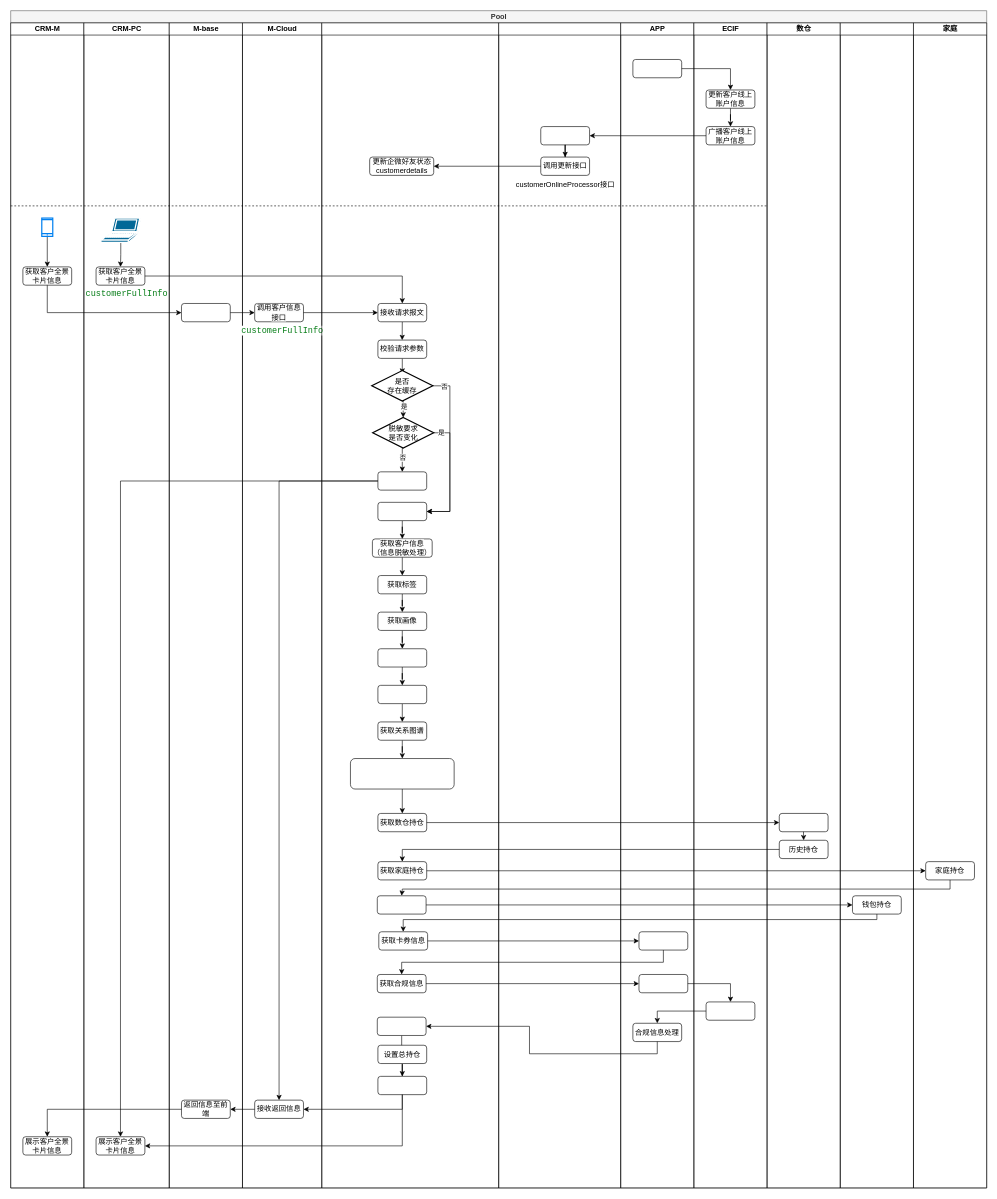
The diagram is 997 pixels wide and 1199 high, and some of its shapes have lost their labels. The box of each missing label's shape, as (x1, y1, x2, y2) in pixels:
CRM-Clear: (498, 22, 621, 1188)
CRM-Customer: (321, 22, 499, 1188)
保存客户信息至缓存: (377, 1076, 427, 1095)
卡券信息: (638, 931, 688, 950)
合规接口: (638, 974, 688, 993)
合规查询: (705, 1001, 755, 1020)
当前持仓: (779, 813, 828, 832)
接收广播信息: (540, 126, 590, 145)
接收请求: (181, 303, 230, 322)
查询客户信息脱敏要求: (377, 502, 427, 521)
获取企微好友更新信息: (632, 59, 682, 78)
获取异议客户: (377, 685, 427, 704)
获取积分: (377, 648, 427, 667)
获取线上账户和服务账户 customerdetails, tkhxx: (350, 758, 454, 789)
获取钱包持仓: (377, 895, 426, 914)
设置资产诊断持仓金额: (377, 1017, 426, 1035)
读取缓存信息: (377, 471, 427, 490)
钱包: (840, 22, 913, 1188)
